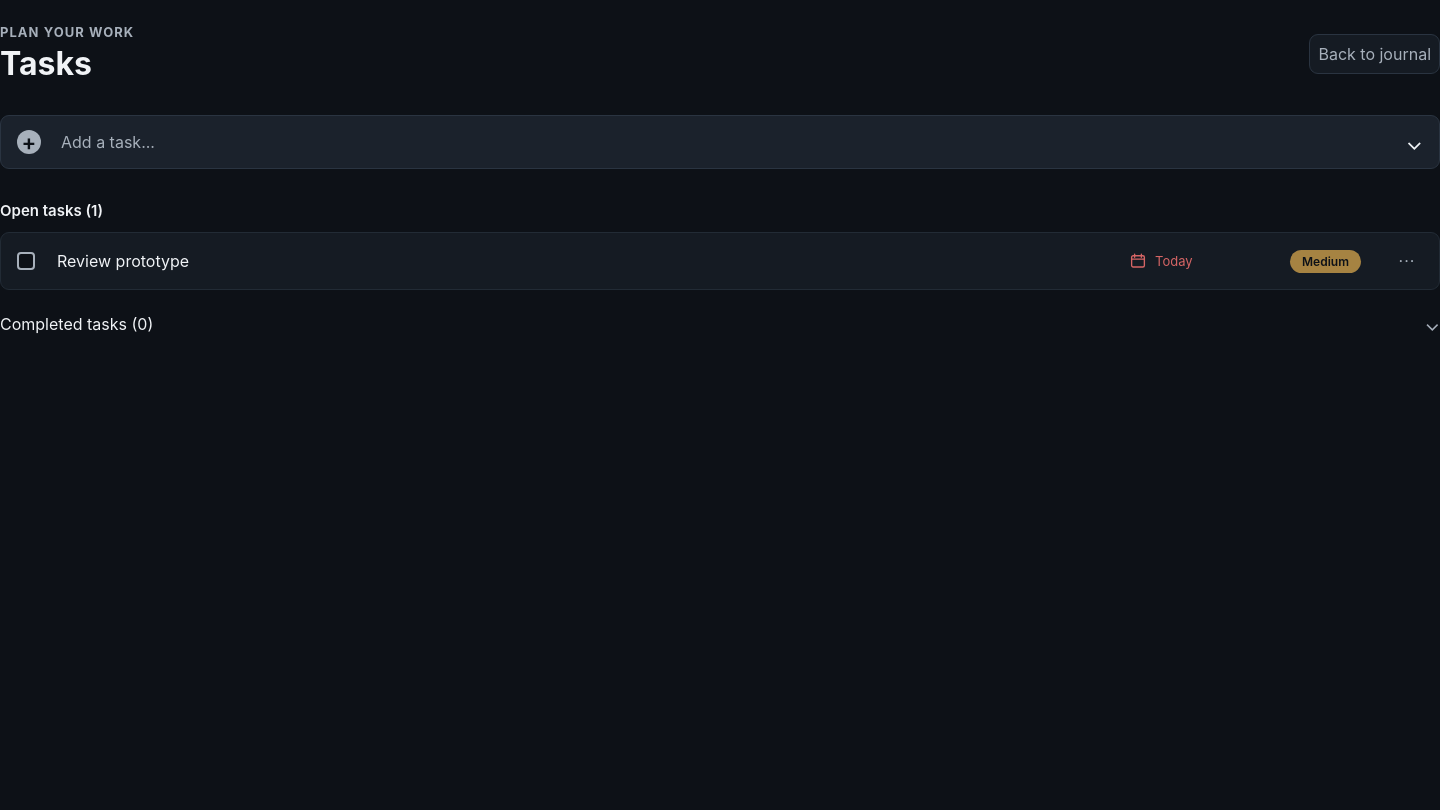
Test: TasksPage › exposes edit and delete via a contextual task-action menu
Click the button named "Task actions for Review prototype" at (1407, 261), box [1391,245,1423,277]
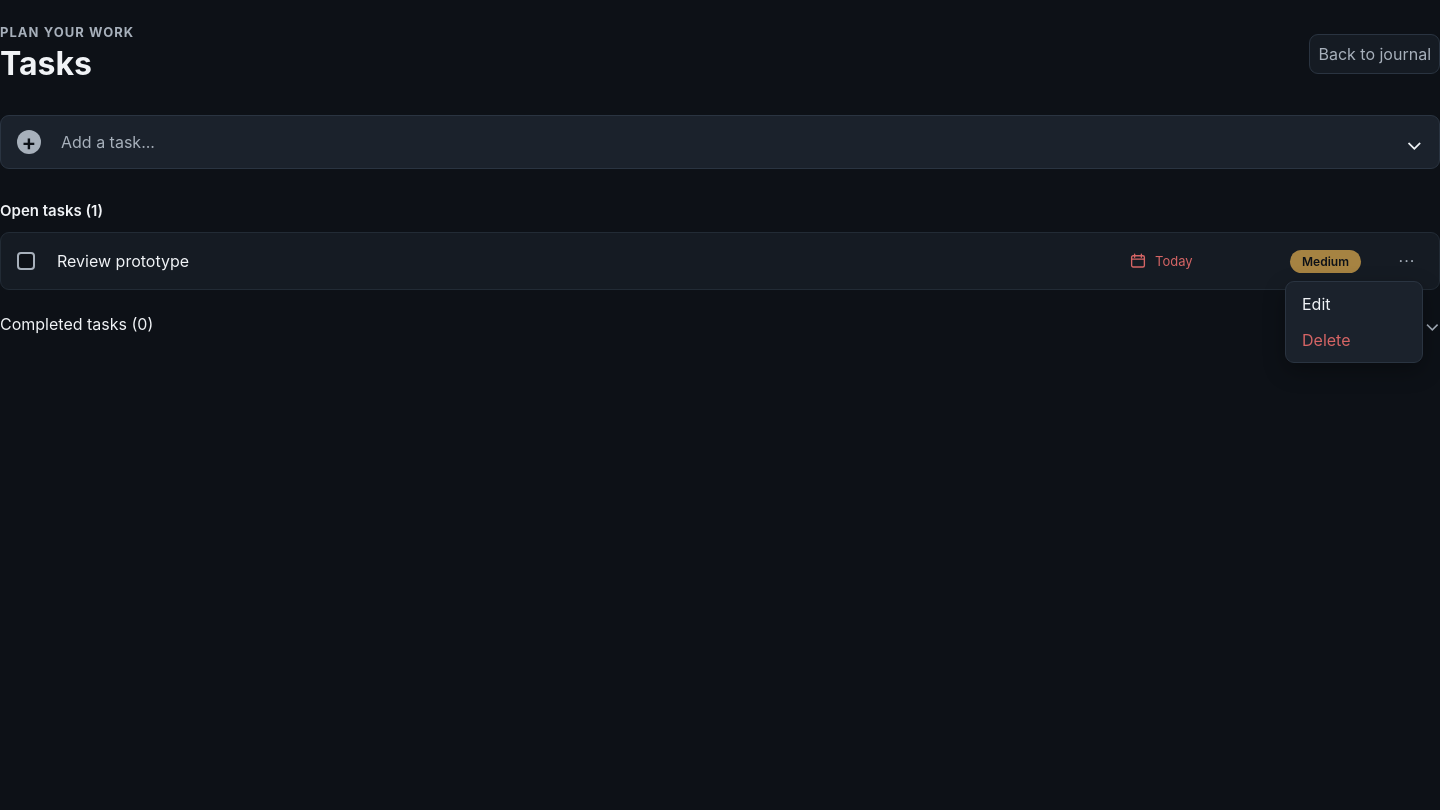
Check: the menu item "Edit" is shown
Click the menu item "Edit" at (1354, 304), box [1290,286,1418,322]
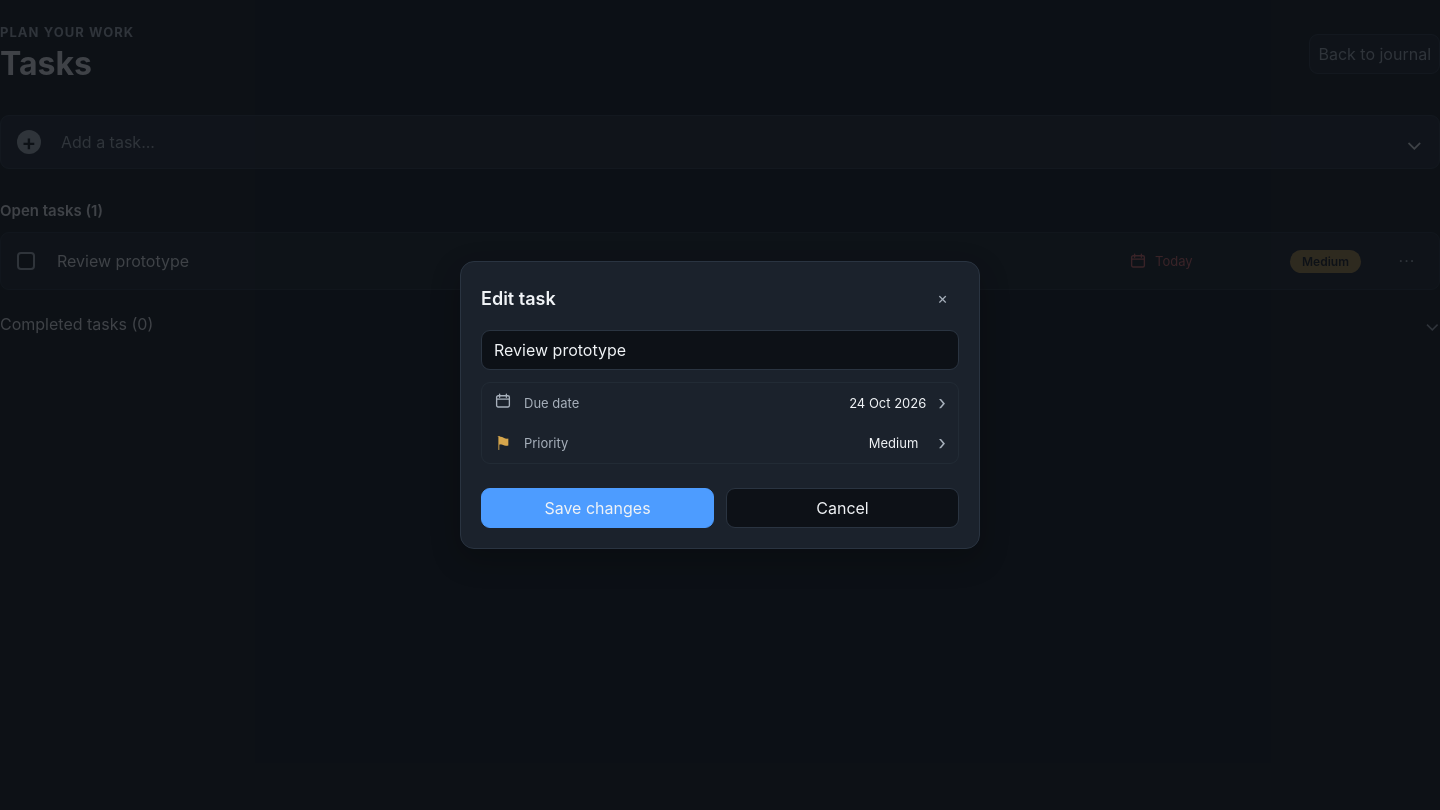
Check: the dialog "Edit task" is shown, box [460,261,980,549]
